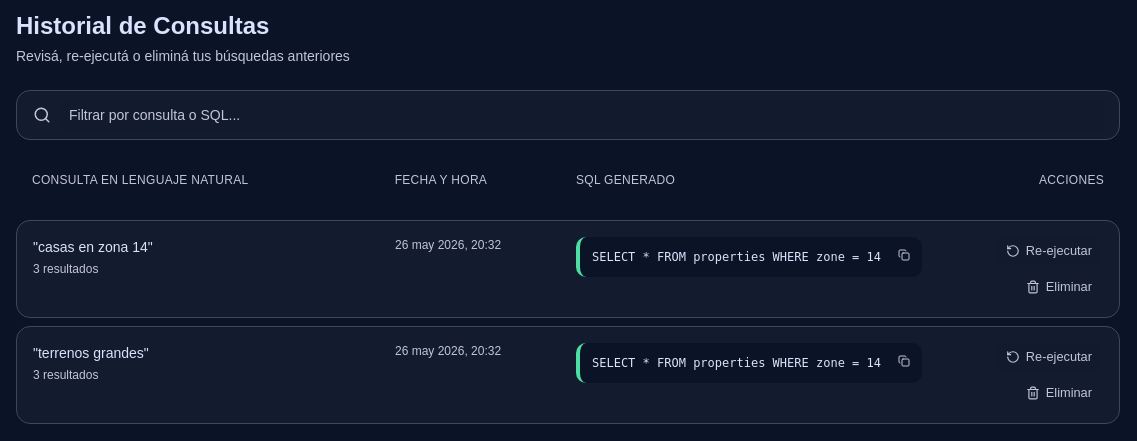
Scenario: QueryHistory › Filter › filters entries by natural language text
Type "terrenos" into the field with placeholder "Filtrar por consulta o SQL...".
click(585, 115); type("terrenos")  # box top-left (59, 99), bottom-right (1111, 131)
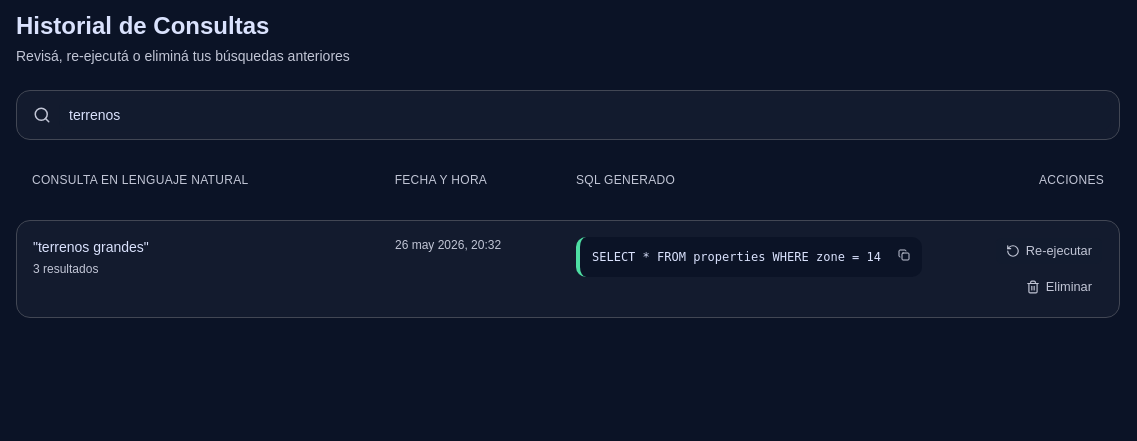
Expected: the text "\"terrenos grandes\"" is shown, top-left (33, 239), bottom-right (149, 255)
Result: the text "\"casas en zona 14\"" is gone
